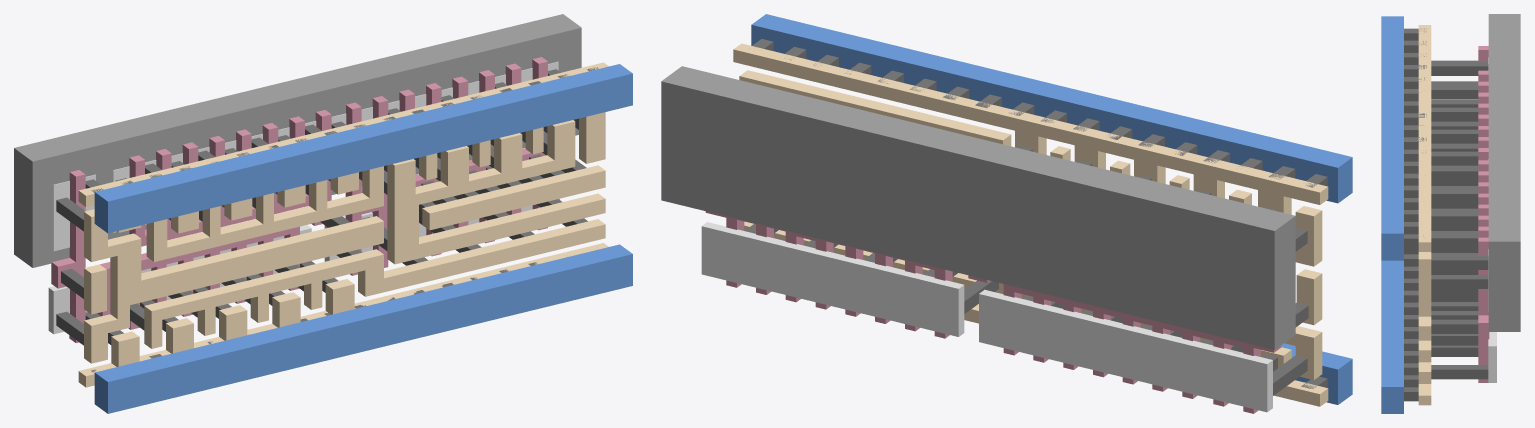
Rendered from sky130_fd_sc_hd__einvp_8.gds.gltf.
The picture shows the model from 3 angles, left to right: view 1: azimuth 30°, elevation 25°; view 2: azimuth 150°, elevation 25°; view 3: azimuth 270°, elevation 25°; orthographic projection. The views are drawn at different scales.
Visible parts, largest first — view 1: sky130_fd_sc_hd__einvp_8_li1, sky130_fd_sc_hd__einvp_8_met1, sky130_fd_sc_hd__einvp_8_nwell, sky130_fd_sc_hd__einvp_8_poly, sky130_fd_sc_hd__einvp_8_licon, sky130_fd_sc_hd__einvp_8_diff, sky130_fd_sc_hd__einvp_8_mcon; view 2: sky130_fd_sc_hd__einvp_8_nwell, sky130_fd_sc_hd__einvp_8_diff, sky130_fd_sc_hd__einvp_8_li1, sky130_fd_sc_hd__einvp_8_met1, sky130_fd_sc_hd__einvp_8_poly, sky130_fd_sc_hd__einvp_8_mcon, sky130_fd_sc_hd__einvp_8_licon; view 3: sky130_fd_sc_hd__einvp_8_licon, sky130_fd_sc_hd__einvp_8_nwell, sky130_fd_sc_hd__einvp_8_met1, sky130_fd_sc_hd__einvp_8_mcon, sky130_fd_sc_hd__einvp_8_li1, sky130_fd_sc_hd__einvp_8_poly, sky130_fd_sc_hd__einvp_8_diff.
Part boxes in pixels (left/top/right/bottom): sky130_fd_sc_hd__einvp_8_li1: left=78, top=62, right=608, bottom=387; sky130_fd_sc_hd__einvp_8_met1: left=94, top=64, right=632, bottom=413; sky130_fd_sc_hd__einvp_8_nwell: left=14, top=14, right=581, bottom=267; sky130_fd_sc_hd__einvp_8_poly: left=51, top=57, right=547, bottom=343; sky130_fd_sc_hd__einvp_8_licon: left=56, top=69, right=587, bottom=345; sky130_fd_sc_hd__einvp_8_diff: left=48, top=61, right=559, bottom=334; sky130_fd_sc_hd__einvp_8_mcon: left=91, top=67, right=598, bottom=373; sky130_fd_sc_hd__einvp_8_nwell: left=661, top=66, right=1295, bottom=349; sky130_fd_sc_hd__einvp_8_diff: left=701, top=222, right=1272, bottom=412; sky130_fd_sc_hd__einvp_8_li1: left=733, top=43, right=1328, bottom=406; sky130_fd_sc_hd__einvp_8_met1: left=751, top=14, right=1352, bottom=404; sky130_fd_sc_hd__einvp_8_poly: left=705, top=211, right=1281, bottom=413; sky130_fd_sc_hd__einvp_8_mcon: left=752, top=39, right=1327, bottom=388; sky130_fd_sc_hd__einvp_8_licon: left=745, top=146, right=1308, bottom=395; sky130_fd_sc_hd__einvp_8_licon: left=1431, top=60, right=1488, bottom=379; sky130_fd_sc_hd__einvp_8_nwell: left=1488, top=14, right=1520, bottom=331; sky130_fd_sc_hd__einvp_8_met1: left=1381, top=16, right=1403, bottom=413; sky130_fd_sc_hd__einvp_8_mcon: left=1404, top=28, right=1426, bottom=401; sky130_fd_sc_hd__einvp_8_li1: left=1418, top=25, right=1431, bottom=405; sky130_fd_sc_hd__einvp_8_poly: left=1478, top=46, right=1489, bottom=382; sky130_fd_sc_hd__einvp_8_diff: left=1488, top=57, right=1496, bottom=382.
Size of the model in its own units: 8.66 by 3.2 by 2.24.
